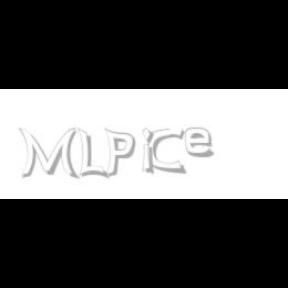C: (147, 128, 184, 174)
L: (78, 128, 106, 180)
M: (18, 128, 78, 180)
P: (104, 128, 136, 178)
e: (186, 128, 218, 158)
i: (142, 128, 158, 176)
